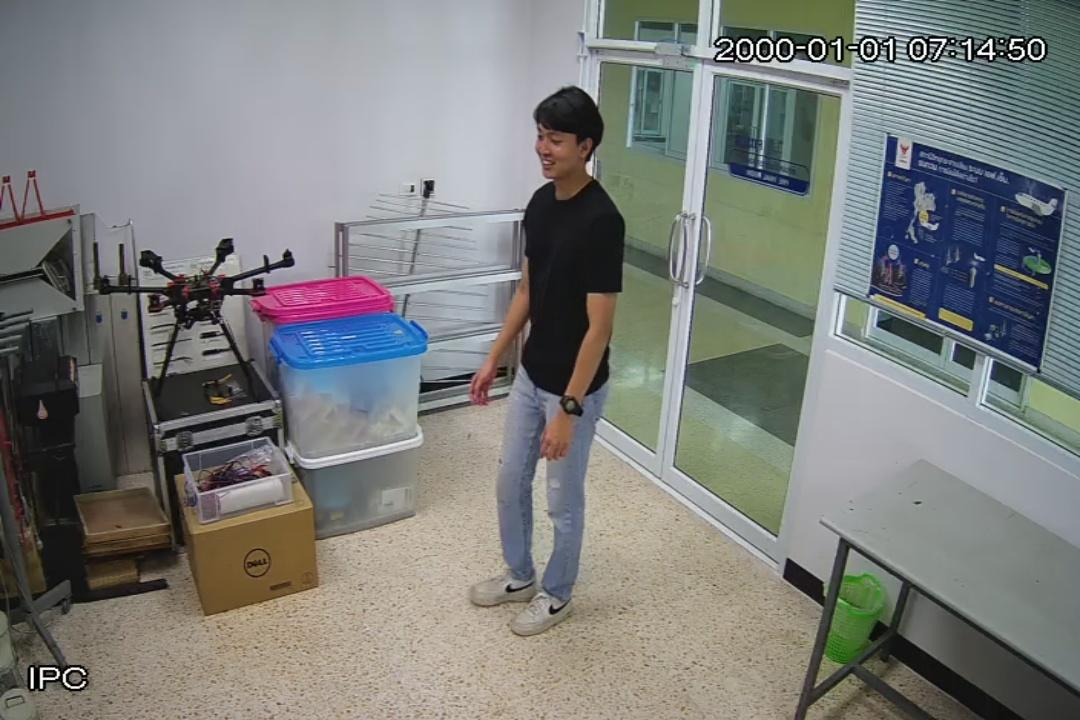normal: (474, 88, 623, 639)
